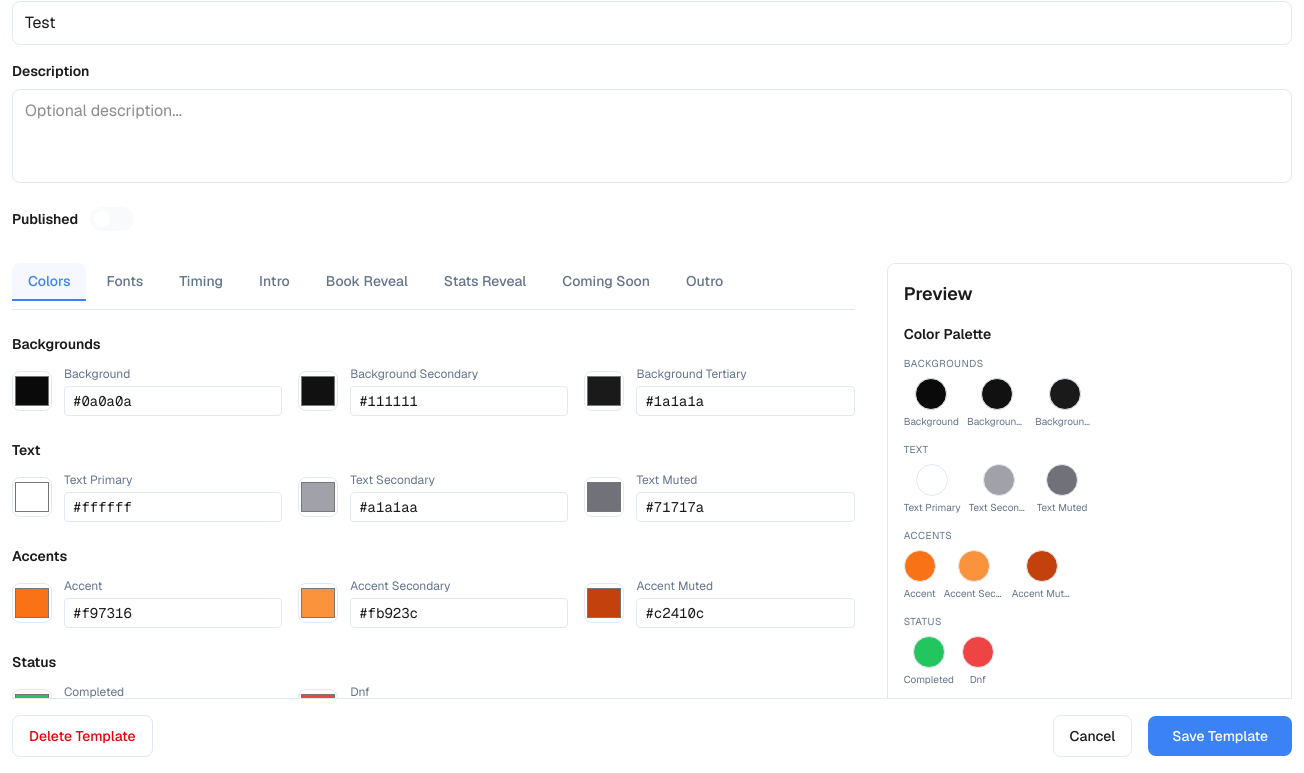
Template Editor Background Image UI › per-sequence tab (Intro) renders a "Background Image" section with upload/preview/remove controls
Note: Switch to Intro tab
Click the button "Intro" at (274, 282), box x1=243 y1=263 x2=306 y2=301
(page scrolled)
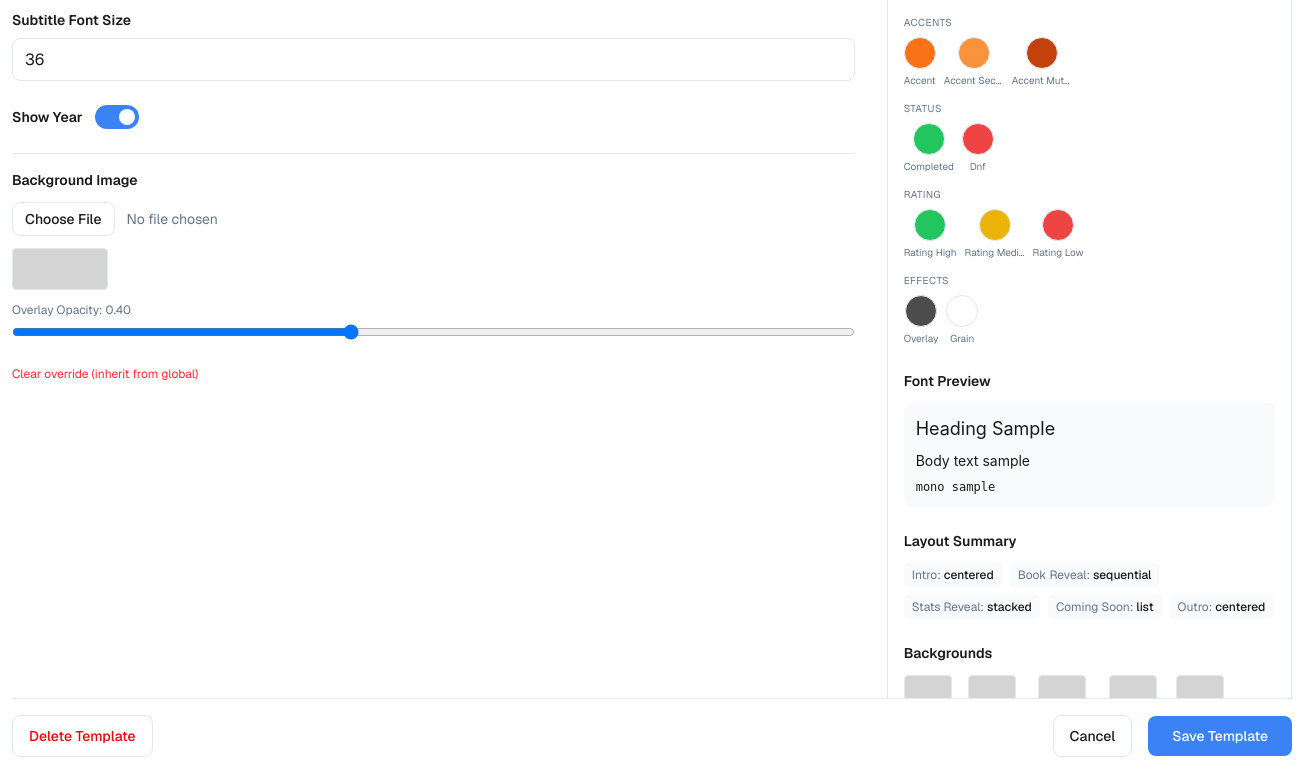
Now the file field with test id "intro-background-upload" is shown, box x1=12 y1=202 x2=855 y2=236
Now the slider with test id "intro-background-opacity" is shown, box x1=12 y1=324 x2=855 y2=340
Now the button with test id "intro-background-remove" is shown, box x1=12 y1=366 x2=198 y2=382
